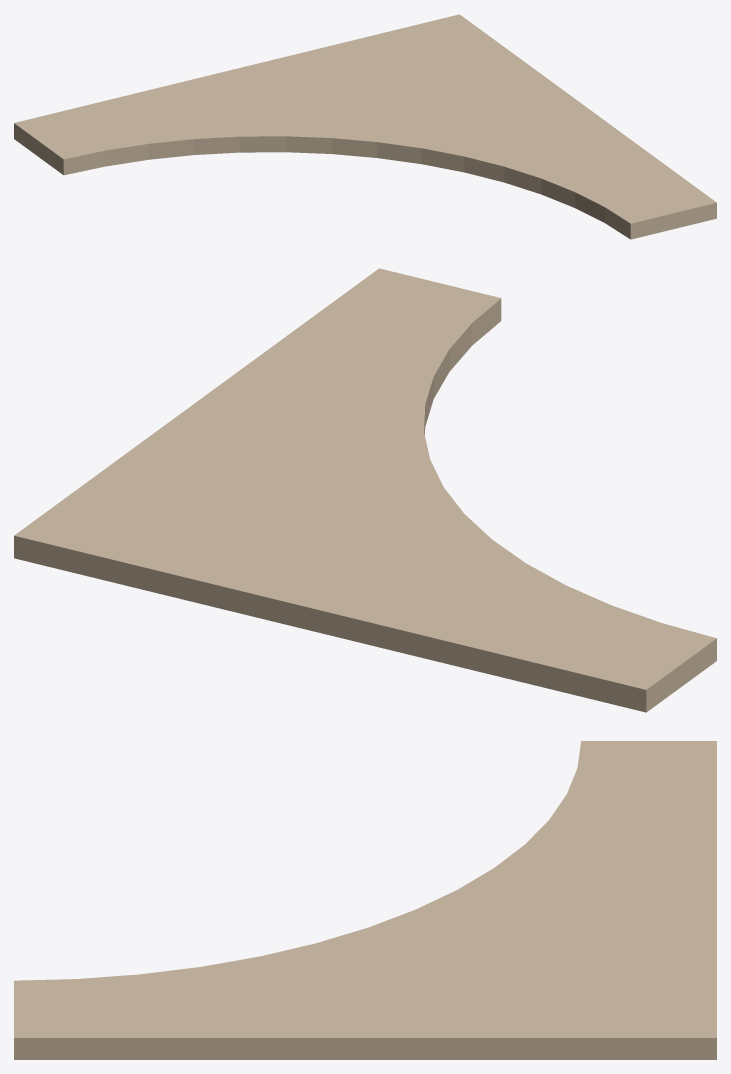
File: SideWalkCurrve.fbx
3 views of the same model, one above another, from view 1: azimuth 30°, elevation 25°; view 2: azimuth 150°, elevation 25°; view 3: azimuth 270°, elevation 25° (orthographic). The views are drawn at different scales.
Parts seen in each view (by area): view 1: sidewalk curve; view 2: sidewalk curve; view 3: sidewalk curve.
Part boxes in pixels (x1,y1,x2,y2): sidewalk curve: (14,14,716,239); sidewalk curve: (14,268,716,712); sidewalk curve: (14,741,716,1059).
Size of the model in its own units: 2078 by 71.17 by 2078.
